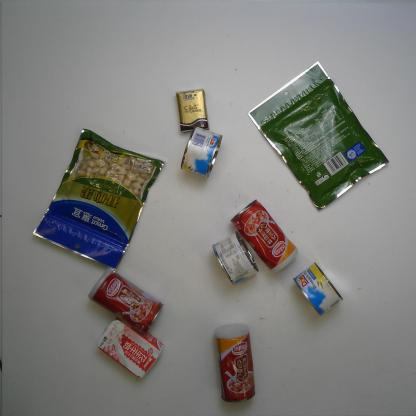Canned Food: (228, 197, 301, 276), (85, 266, 166, 336), (211, 320, 257, 404), (290, 259, 345, 319), (210, 229, 261, 288), (179, 124, 224, 180)
Dried Fruit: (244, 57, 391, 213), (28, 126, 170, 274)
Milk: (94, 314, 166, 382)
Tissue: (173, 86, 211, 134)
